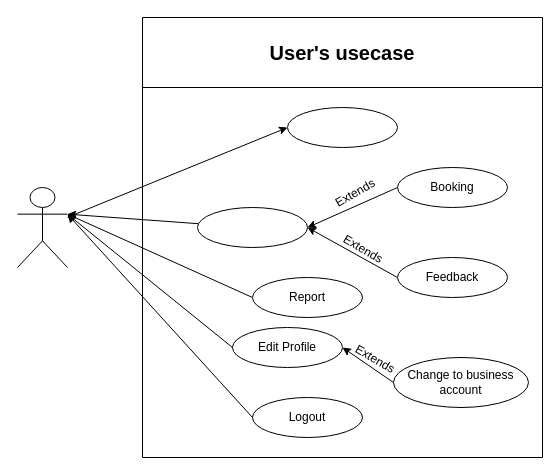
Some shapes in this 560 by 475 pixel diagram are drawn without their labels. The centre of each missing label's shape, as x and y in pixels:
"Actor" goes at (42,227).
"Login/Register" goes at (342,127).
"Tracking Gas Station" goes at (252,227).
